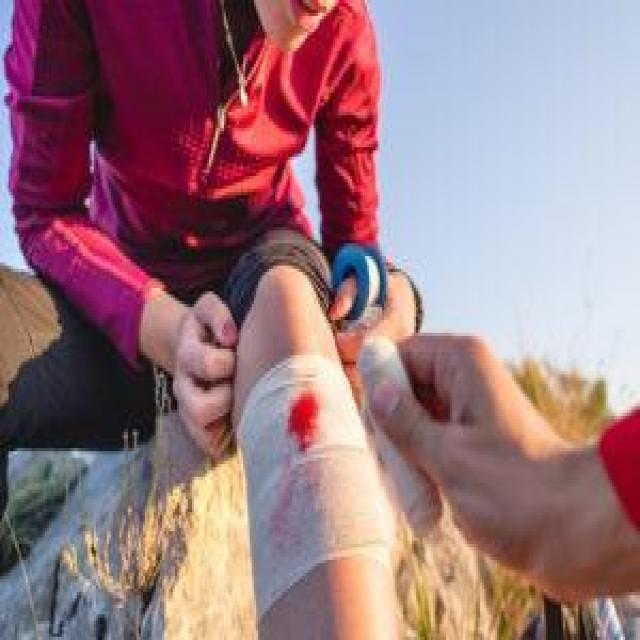flood: (288, 392, 318, 450)
